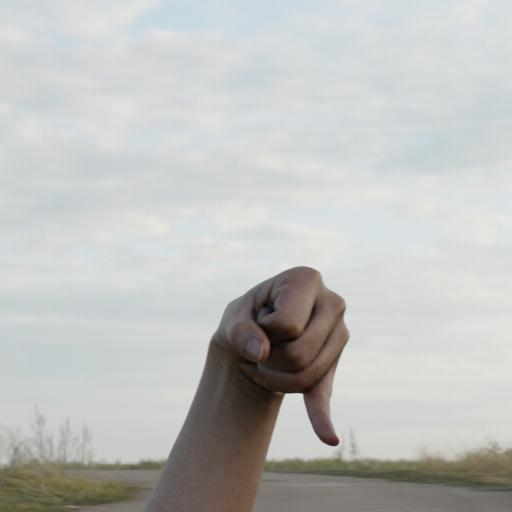J: (182, 226, 368, 512)
